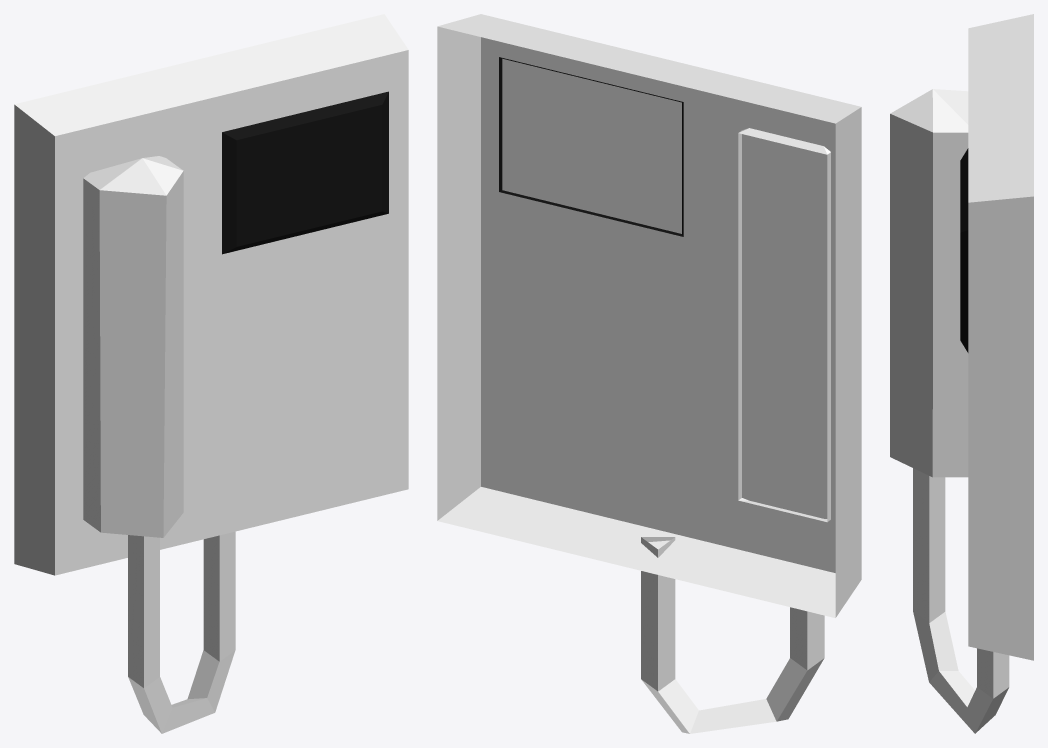
File: Phone.fbx
3 renders of one model, left to right at view 1: azimuth 30°, elevation 25°; view 2: azimuth 150°, elevation 25°; view 3: azimuth 270°, elevation 25°, orthographic. The views are drawn at different scales.
Visible parts, largest first — view 1: polySurface2297; view 2: polySurface2297; view 3: polySurface2297.
Boxes of the visible parts, x1,y1,x2,y2 form: polySurface2297: (14, 14, 408, 733); polySurface2297: (437, 14, 861, 733); polySurface2297: (890, 14, 1033, 733).
Bounding box in the file's own units: 46.18 × 74.96 × 15.38.
Materials: 1 (1 with a texture image).
